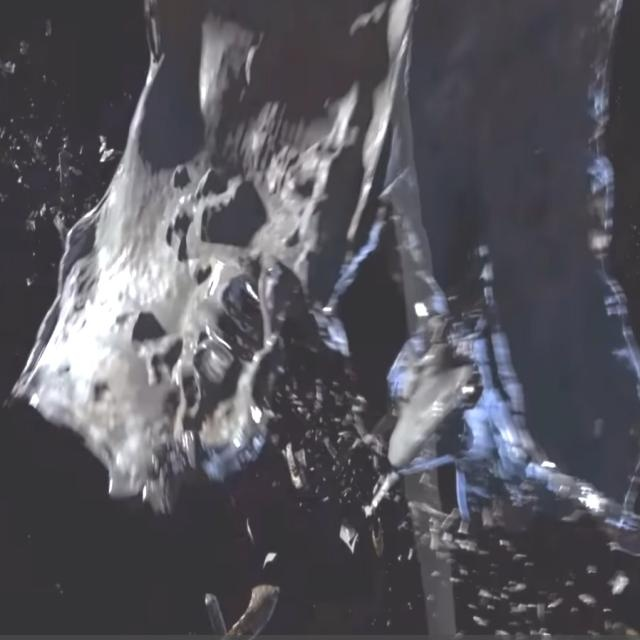large_debris: (21, 5, 640, 626)
